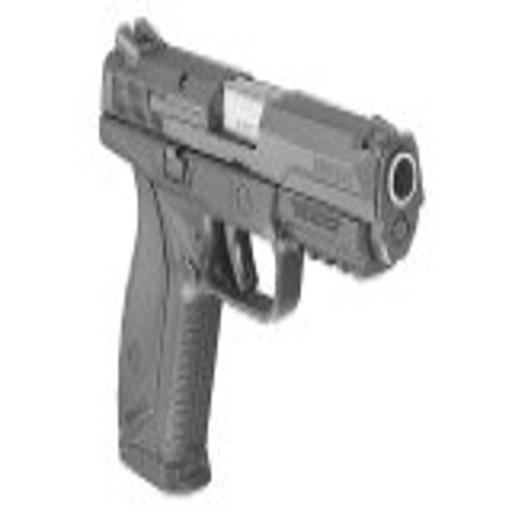Handgun: (95, 7, 434, 502)
